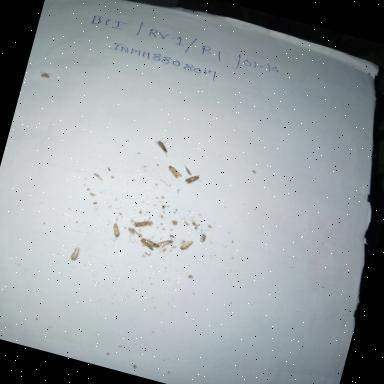pbw: (60, 242, 88, 266), (150, 134, 176, 158), (104, 220, 128, 245), (128, 214, 156, 232), (136, 234, 160, 254), (182, 170, 204, 188), (164, 163, 184, 181), (155, 236, 175, 252), (178, 236, 194, 255)
